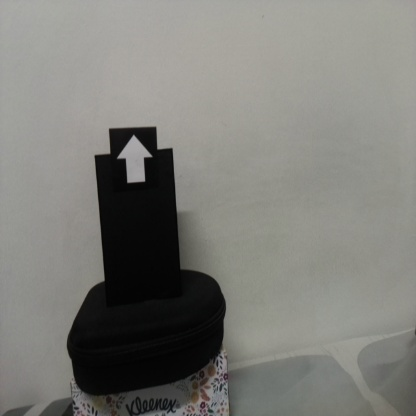id_1: (107, 129, 159, 191)
